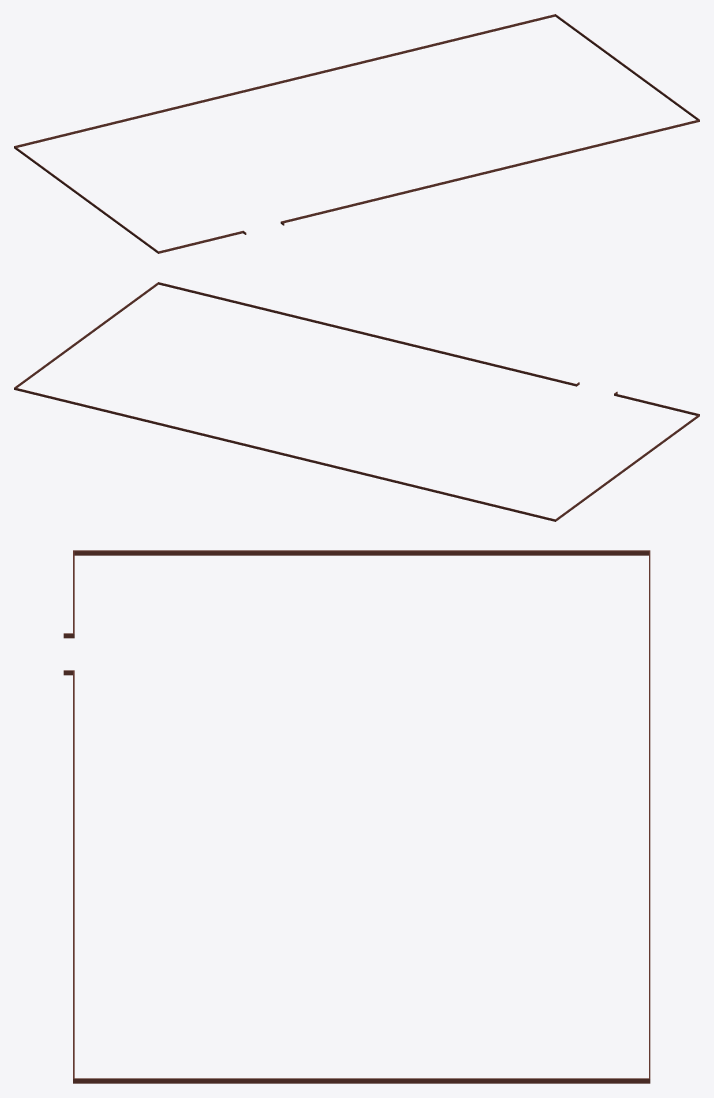
Rendered from baseboard.fbx.
3 renders of one model, top to bottom at view 1: azimuth 30°, elevation 25°; view 2: azimuth 150°, elevation 25°; view 3: azimuth 270°, elevation 25°, orthographic. The views are drawn at different scales.
Parts seen in each view (by area): view 1: baseboard; view 2: baseboard; view 3: baseboard.
Part boxes in pixels (x1,y1,x2,y2): baseboard: [14, 14, 699, 253]; baseboard: [14, 282, 699, 521]; baseboard: [63, 550, 650, 1083].
Size of the model in its own units: 13 by 0.05 by 6.1.
